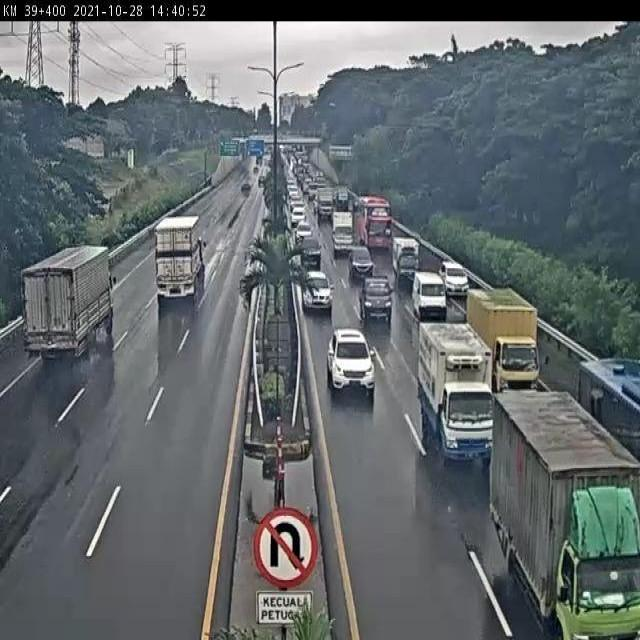big truck: (147, 218, 201, 310)
car: (327, 326, 375, 394), (412, 272, 449, 317), (359, 275, 394, 321), (300, 264, 331, 311), (440, 260, 469, 297), (348, 245, 375, 279)
truck-m-: (491, 388, 640, 640), (416, 319, 501, 464), (23, 243, 115, 364), (466, 287, 539, 388)
truck-s-: (392, 237, 424, 284)
